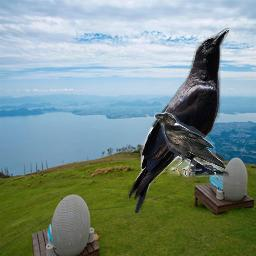Crow: (127, 28, 229, 213), (154, 112, 226, 177)
